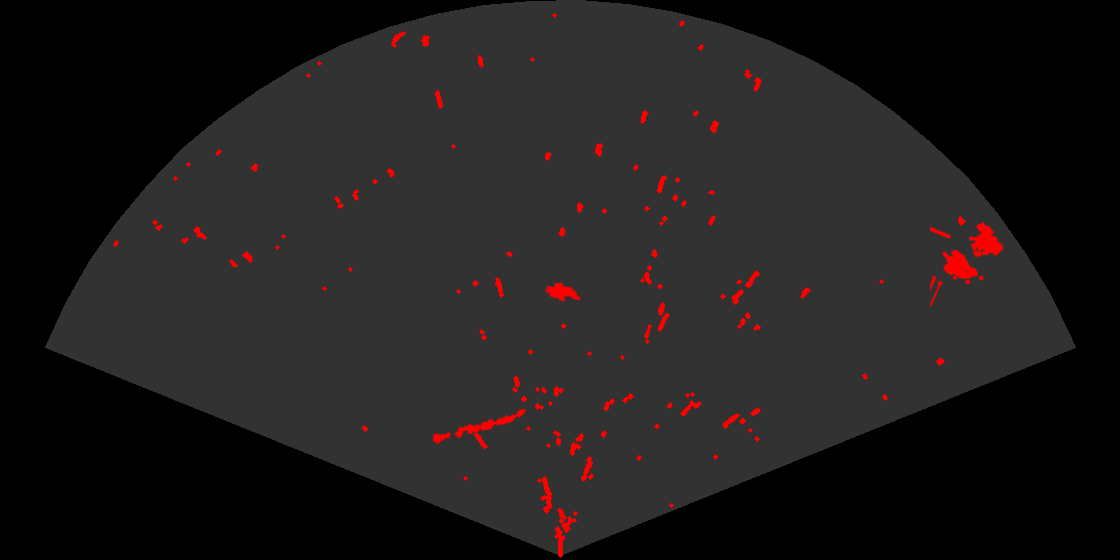AUV: (543, 280, 582, 303)
cage: (930, 220, 1005, 306)
chain: (430, 407, 528, 446)
